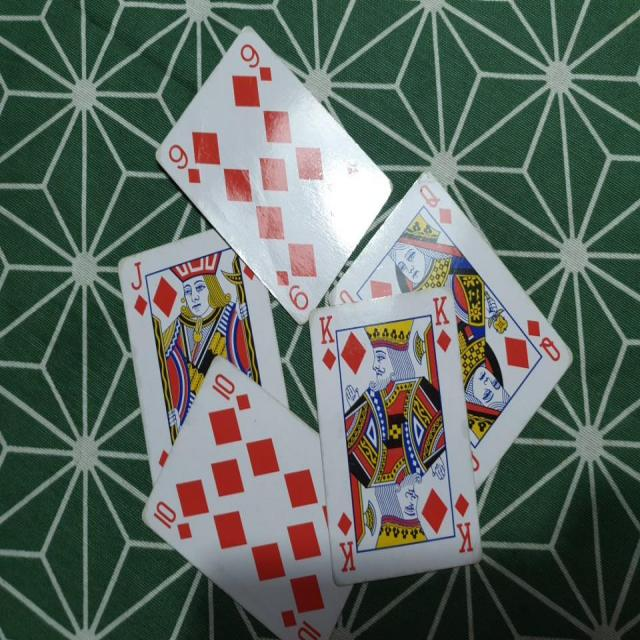10 Diamonds: (136, 354, 356, 637)
9 Diamonds: (152, 24, 396, 325)
J Diamonds: (117, 230, 290, 486)
K Diamonds: (307, 284, 485, 586)
Q Diamonds: (326, 164, 576, 488)
